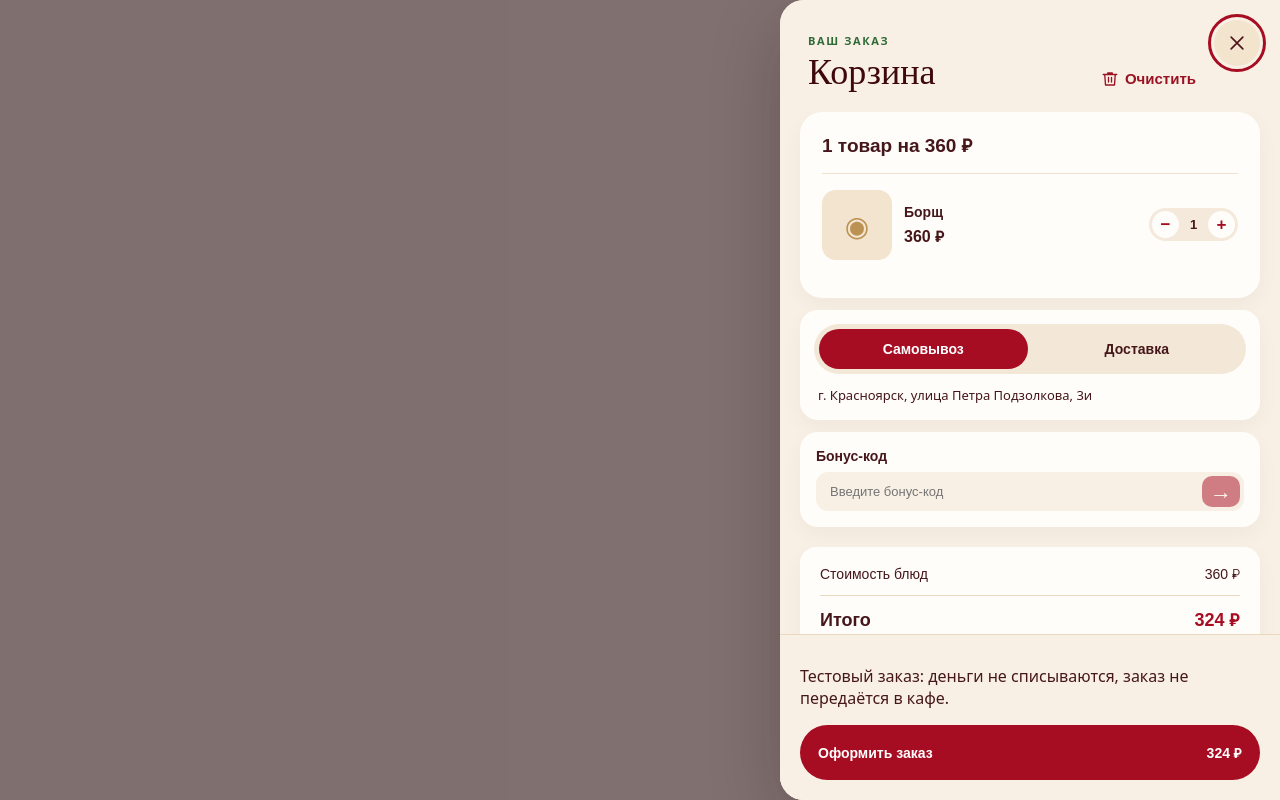
Test case: изменения корзины во время сохранения заказа остаются в корзине
Click the button "Оформить заказ 324 ₽" at (875, 752), box [800, 725, 1260, 780]
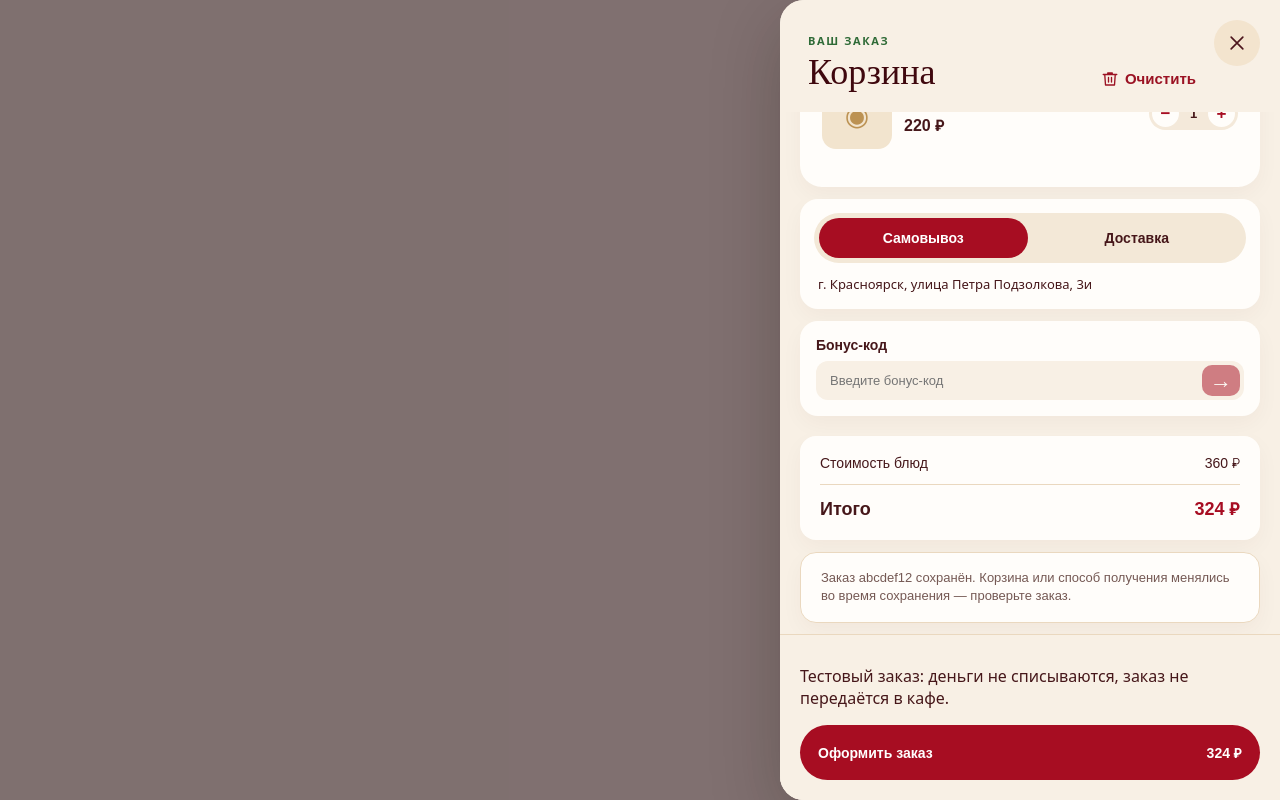
Expected: the text "проверьте заказ" is shown, [821, 570, 1230, 603]
